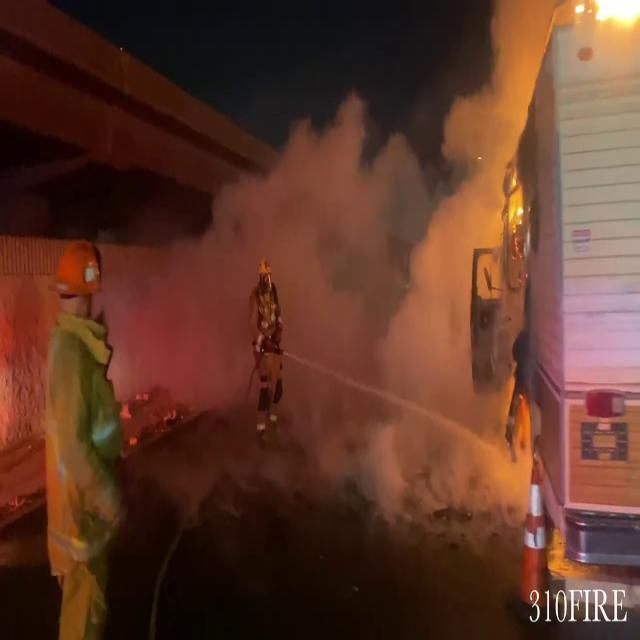Smoke: (92, 18, 534, 498)
